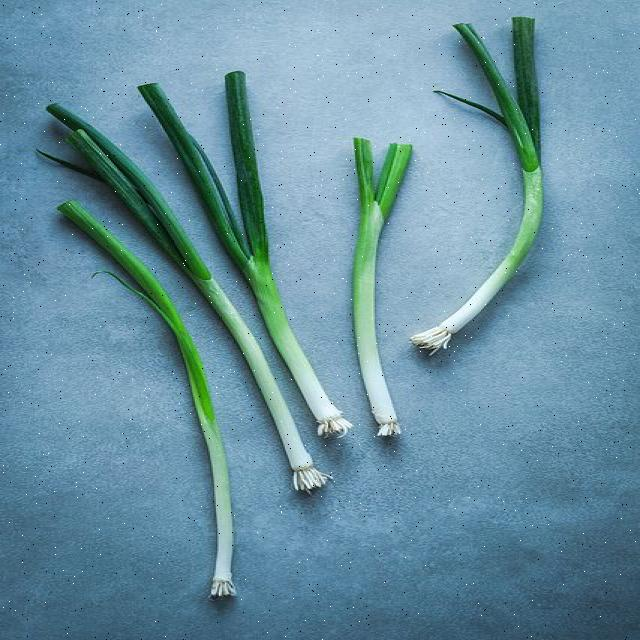Onion Leaves: (17, 32, 588, 318)
